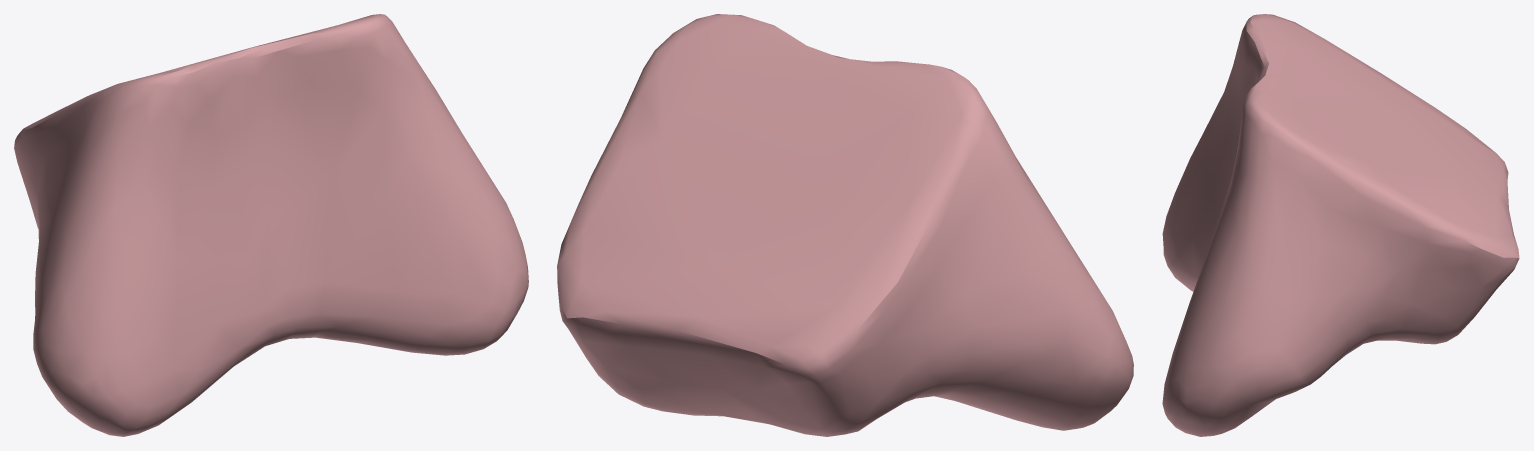
File: fma78455_mm3063.glb
3 renders of one model, left to right at view 1: azimuth 30°, elevation 25°; view 2: azimuth 150°, elevation 25°; view 3: azimuth 270°, elevation 25°, orthographic. The views are drawn at different scales.
Visible parts, largest first — view 1: FMA78455_MM3063; view 2: FMA78455_MM3063; view 3: FMA78455_MM3063.
Boxes of the visible parts, <box> form: FMA78455_MM3063: <box>14,14,528,436</box>; FMA78455_MM3063: <box>557,14,1133,436</box>; FMA78455_MM3063: <box>1162,14,1519,436</box>.
Bounding box in the file's own units: 0.00524 × 0.0034 × 0.0037.
